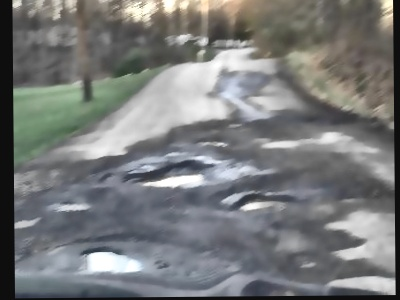pothole: (128, 158, 215, 188), (79, 245, 149, 276), (234, 192, 293, 214), (239, 279, 319, 295), (54, 199, 91, 210)
